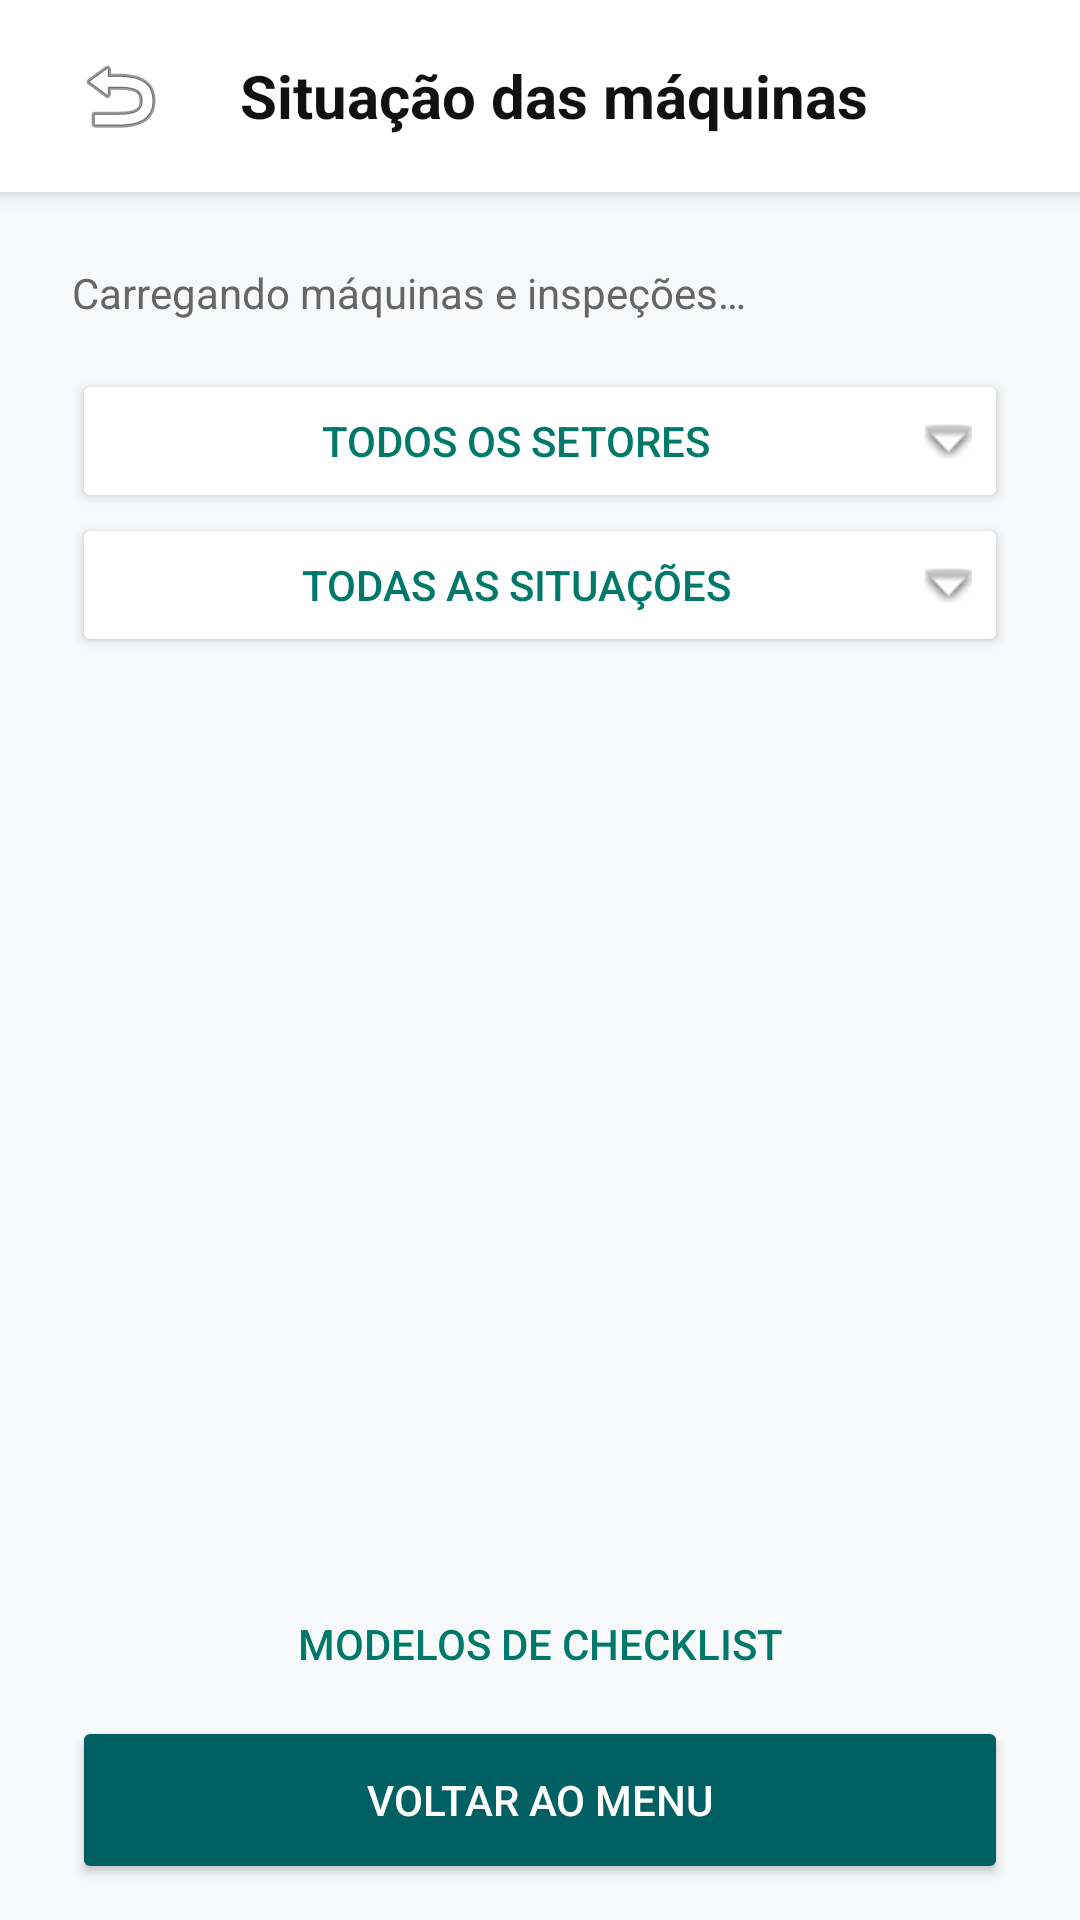

Named icons in this screenshot (1080px x 1920px) and their centers, (x=x, y=y):
Voltar ao menu: (x=121, y=96)
